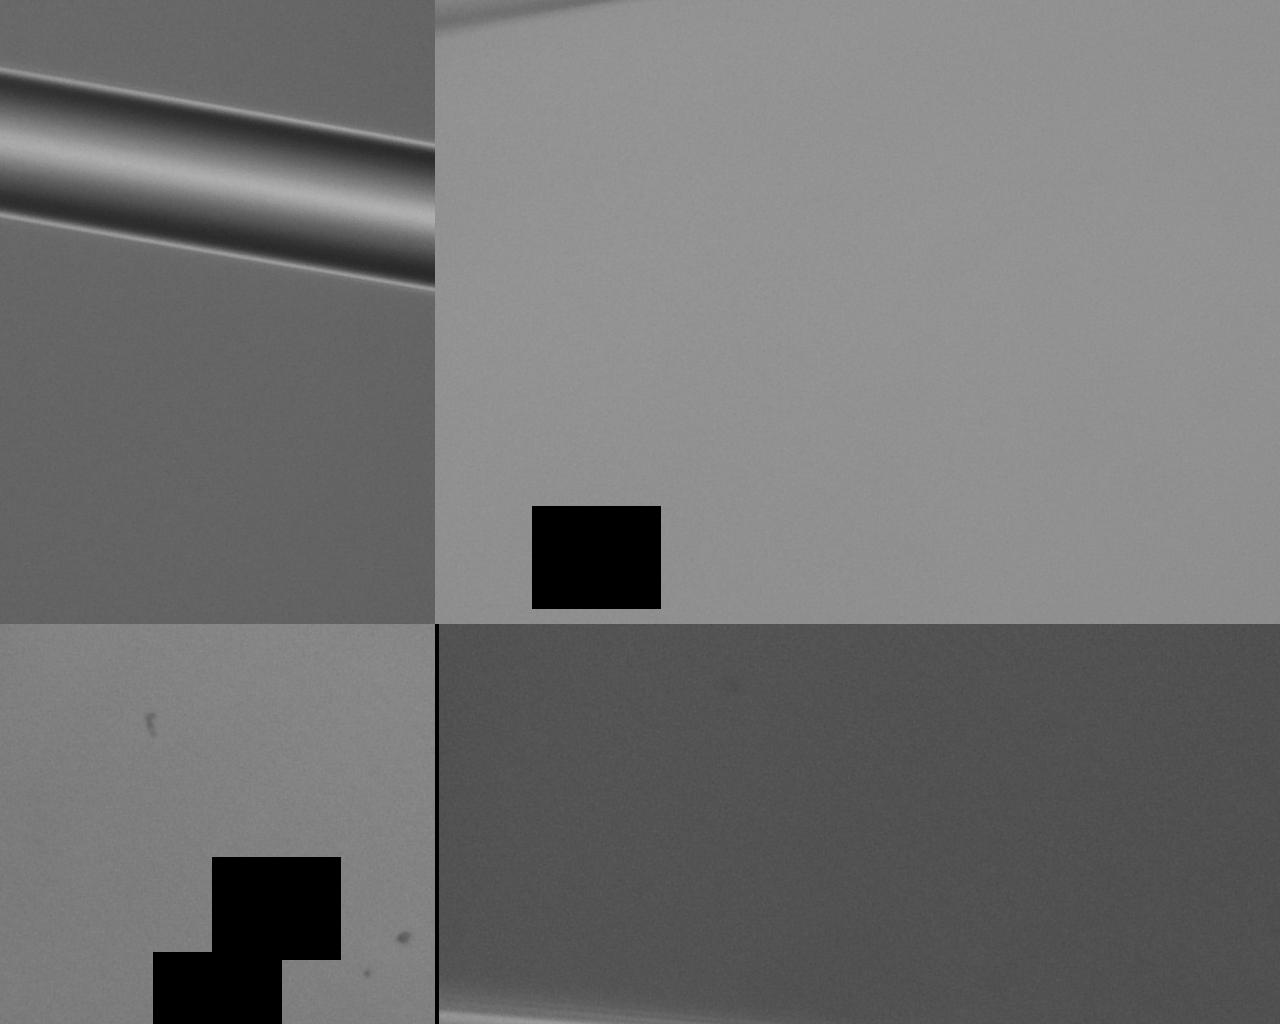fiber: (0, 378, 649, 1024), (768, 0, 1280, 276), (768, 794, 1280, 1024), (23, 0, 121, 378)
